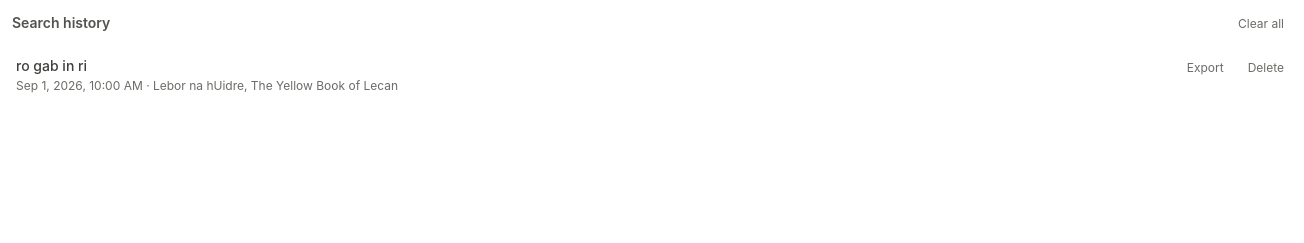
Test: SearchHistorySection › shows each hit as a match percentage, never the stored dissimilarity
Click the button "ro gab in ri" at (52, 66), box [12,44,1171,106]
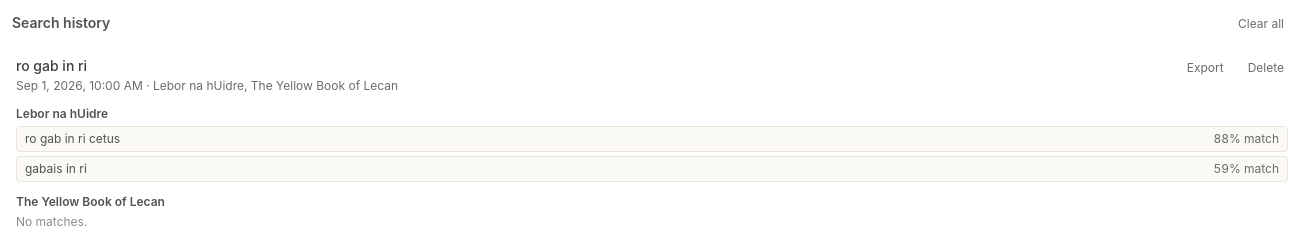
Now the text "ro gab in ri cetus" is shown, box [25,131,120,147]
Now the text "88% match" is shown, box [1213,131,1279,147]
Now the text "59% match" is shown, box [1213,161,1279,177]
